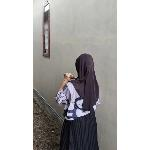Celurit: (63, 65, 93, 83)
